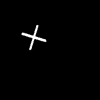single_crochet: (22, 25, 45, 49)
